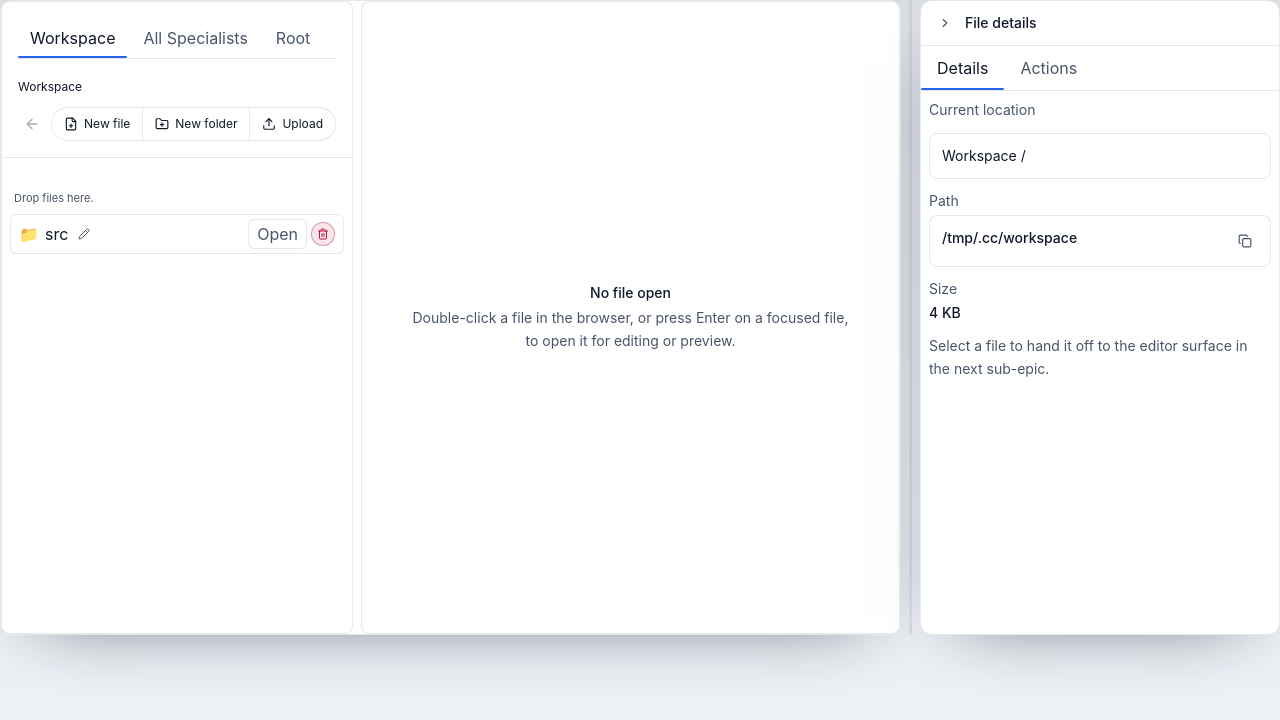
Test: FileManagerPage upload panel › uploads dropped files and surfaces rejected entries
Expected: the button "src" is shown, [45,222,68,246]
What coordinates should you click on to do the following:
click the button "Upload"
I would click on:
 (292, 124)
Its box is [249,108,335,140].
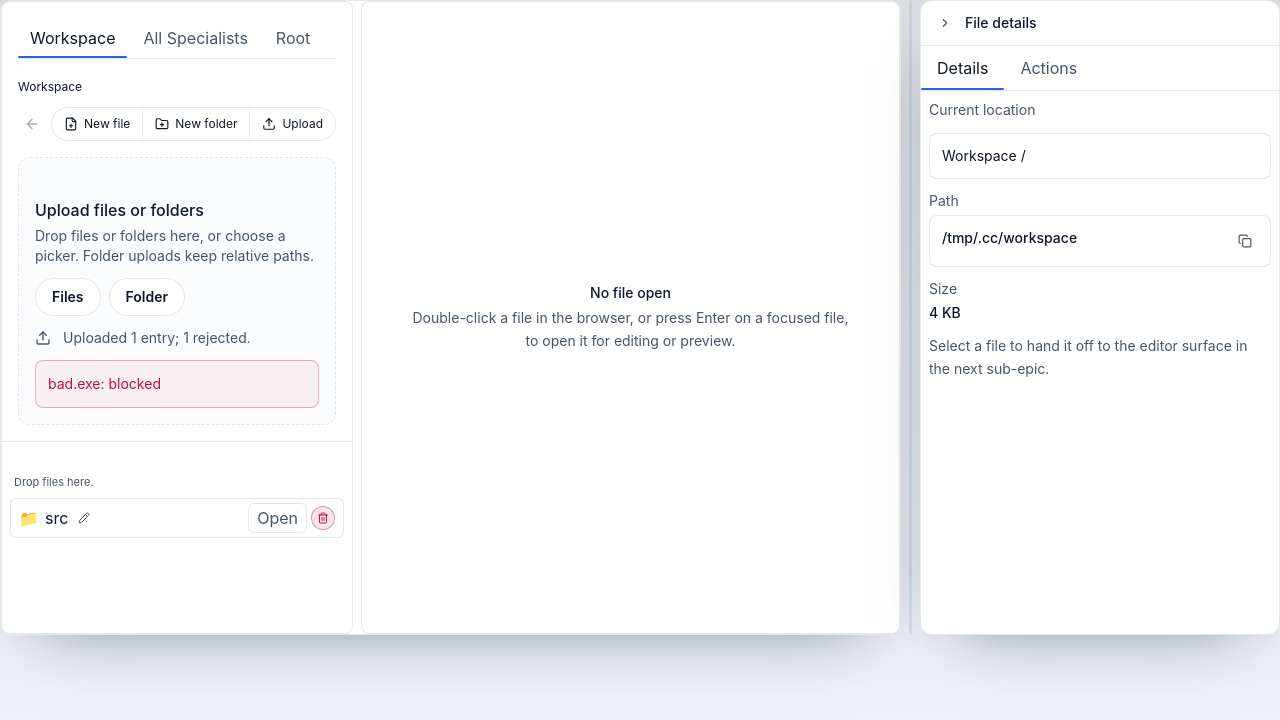
Expected: the text "bad.exe: blocked" is shown, [48,375,161,392]
